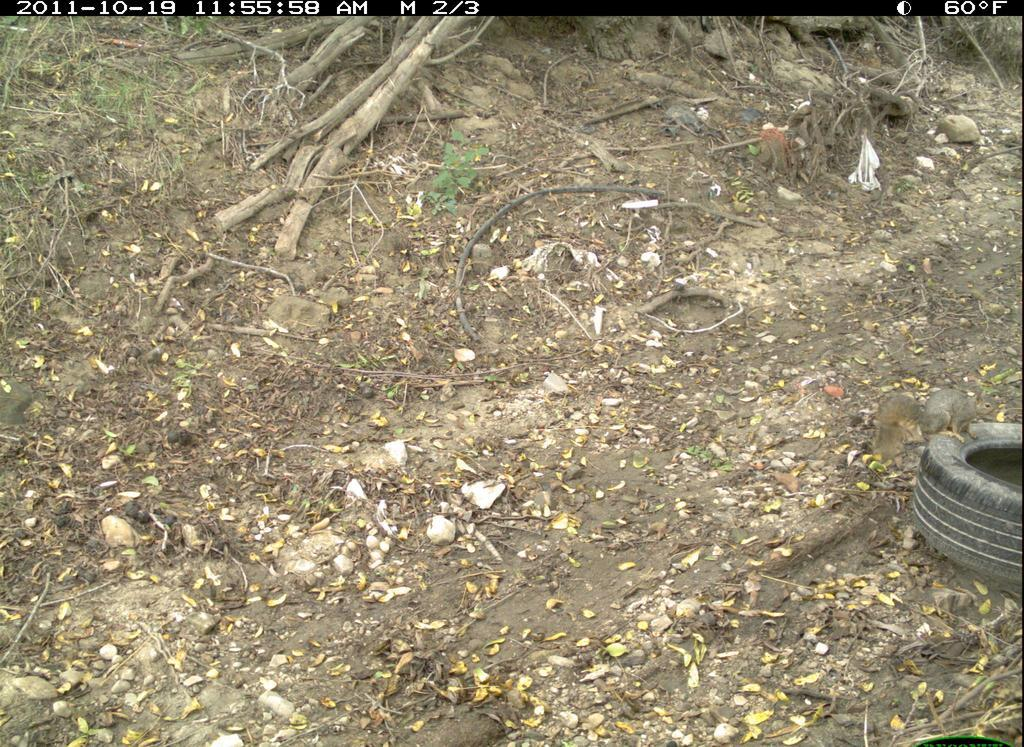squirrel: (863, 374, 1004, 463)
